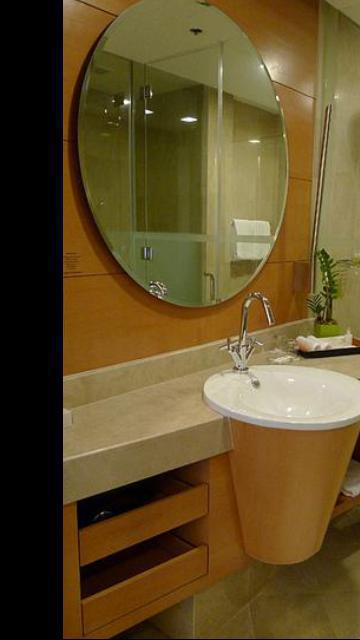Ducha: (332, 20, 360, 453)
Lavamanos: (201, 285, 360, 441)
